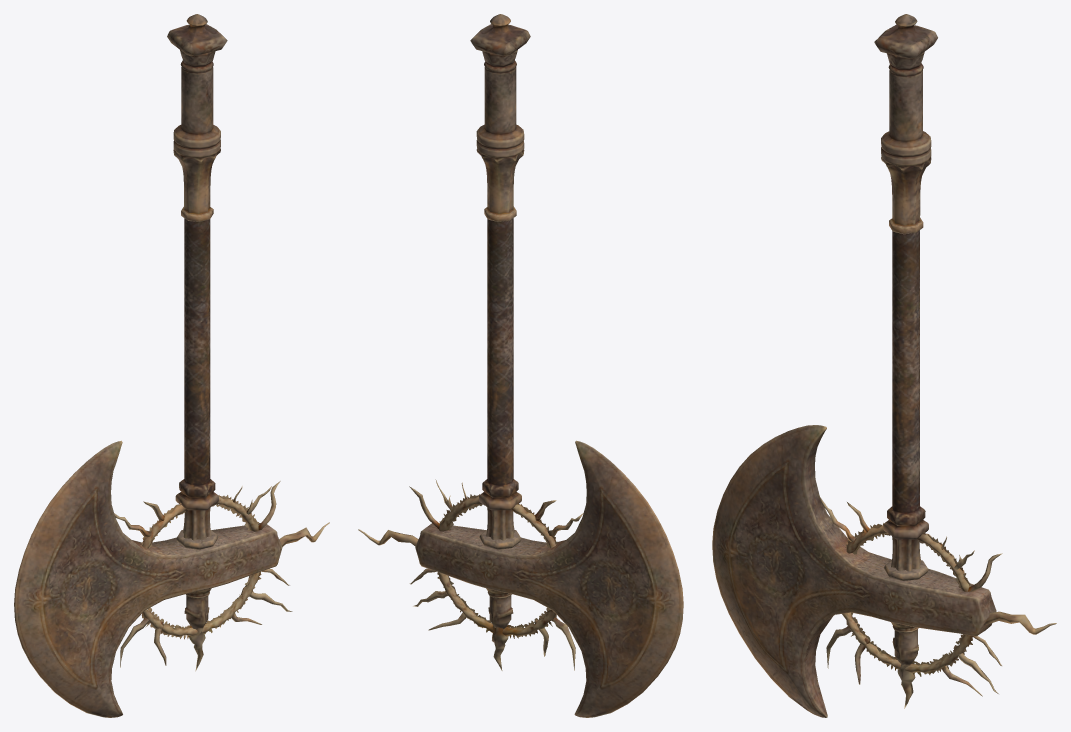
Rendered from weapon-wp_a_0723.glb.
3 views of the same model, side by side, from view 1: azimuth 30°, elevation 25°; view 2: azimuth 150°, elevation 25°; view 3: azimuth 330°, elevation 25° (orthographic). The views are drawn at different scales.
Parts seen in each view (by area): view 1: wp_a_0723_mesh; view 2: wp_a_0723_mesh; view 3: wp_a_0723_mesh.
Part boxes in pixels (x1,y1,x2,y2): wp_a_0723_mesh: [14, 14, 329, 717]; wp_a_0723_mesh: [358, 14, 683, 717]; wp_a_0723_mesh: [712, 14, 1056, 717].
Size of the model in its own units: 0.506 by 1.03 by 0.0692.
2 materials, 2 textured.
